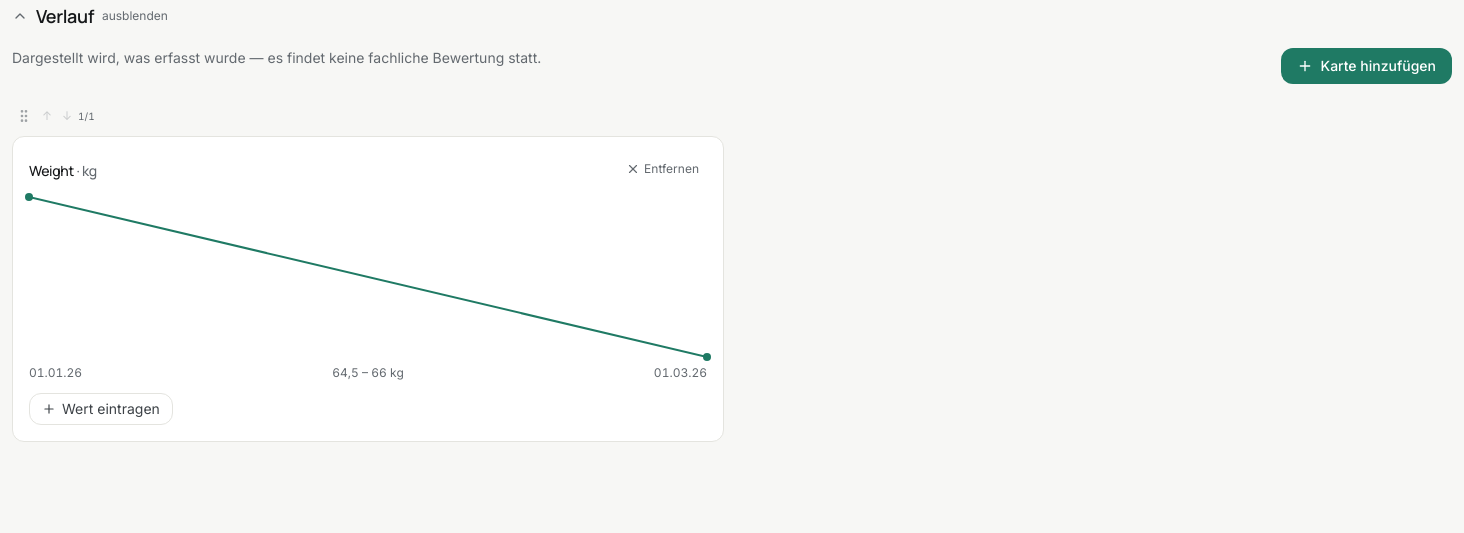
Test: adding a card › does not offer a card that is already on screen
Click the button "Karte hinzufügen": coordinates (1366, 66) x1=1280 y1=48 x2=1452 y2=84
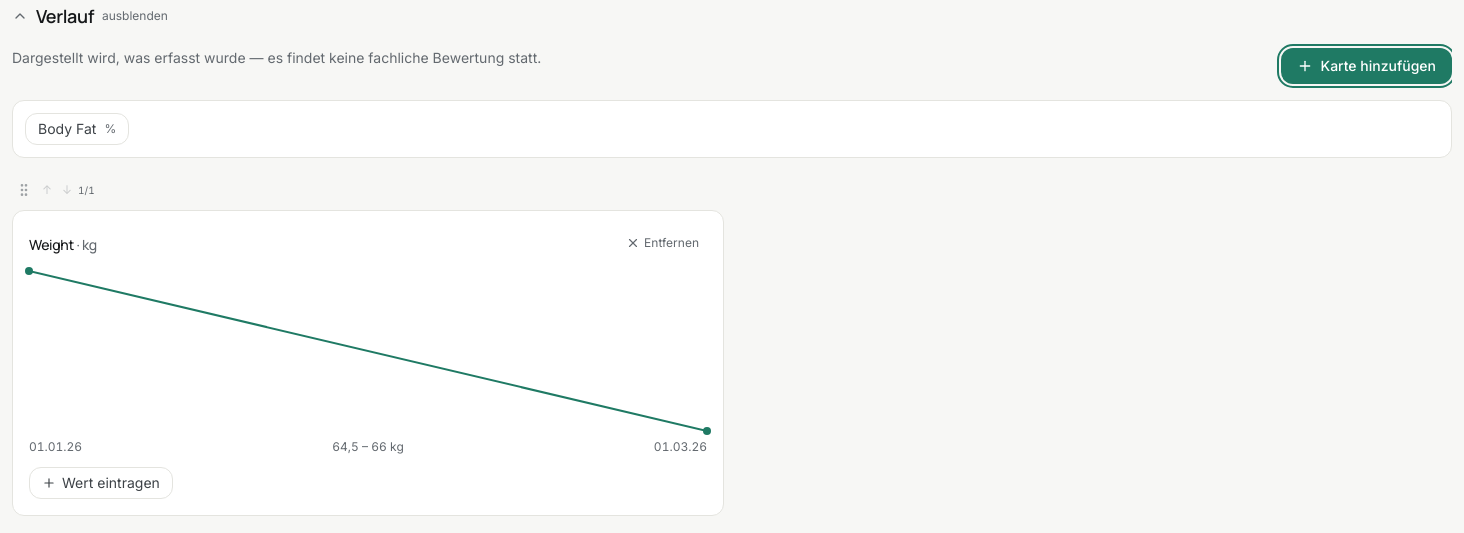
Result: the button "Body Fat %" is shown at x1=25 y1=113 x2=129 y2=145
